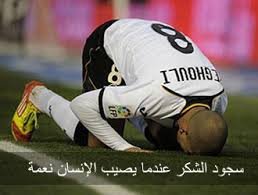sujud: (10, 18, 230, 155)
